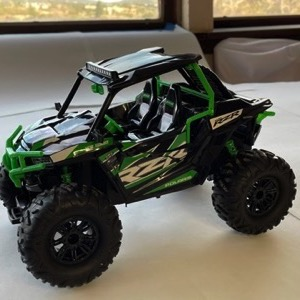polaris: (3, 46, 298, 290)
